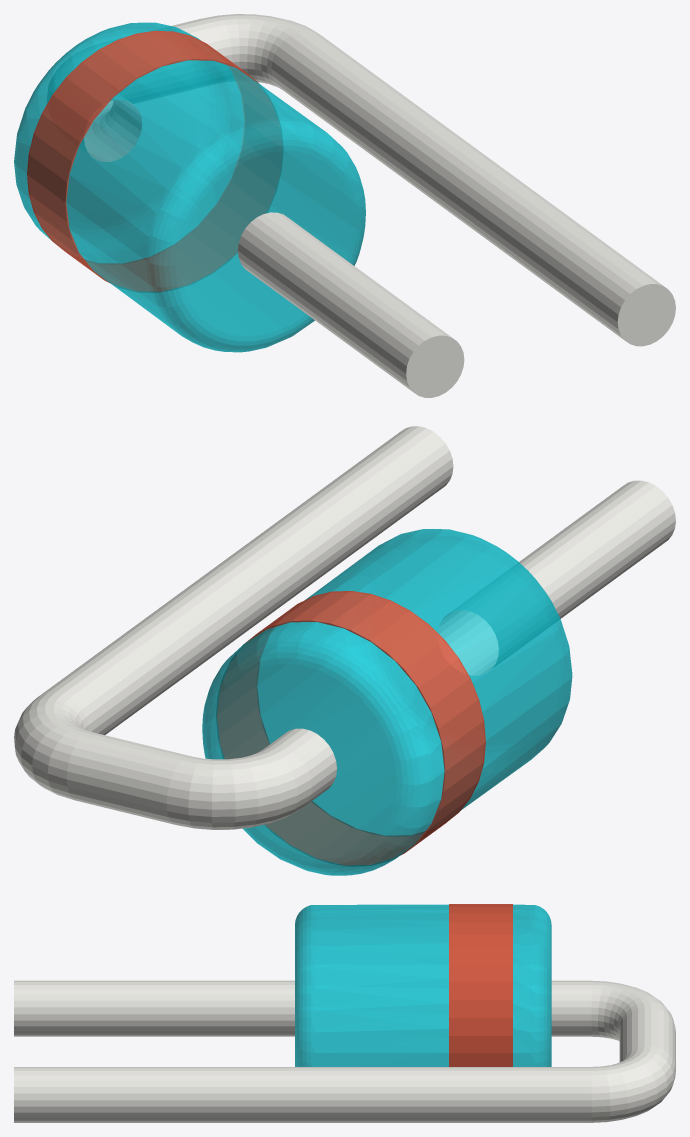
File: D_T-1_P2.54mm_Vertical_KathodeUp.glb
The picture shows the model from 3 angles, top to bottom: view 1: azimuth 30°, elevation 25°; view 2: azimuth 150°, elevation 25°; view 3: azimuth 270°, elevation 25°; orthographic projection. The views are drawn at different scales.
Parts seen in each view (by area): view 1: Shape_IndexedFaceSet.012, Shape_IndexedFaceSet, Shape_IndexedFaceSet.010, Shape_IndexedFaceSet.014, Shape_IndexedFaceSet.013, Shape_IndexedFaceSet.015, Shape_IndexedFaceSet.006, Shape_IndexedFaceSet.007, Shape_IndexedFaceSet.008, Shape_IndexedFaceSet.002, Shape_IndexedFaceSet.003, Shape_IndexedFaceSet.001 (+4 smaller); view 2: Shape_IndexedFaceSet.012, Shape_IndexedFaceSet, Shape_IndexedFaceSet.010, Shape_IndexedFaceSet.006, Shape_IndexedFaceSet.015, Shape_IndexedFaceSet.014, Shape_IndexedFaceSet.007, Shape_IndexedFaceSet.013, Shape_IndexedFaceSet.004, Shape_IndexedFaceSet.003, Shape_IndexedFaceSet.008, Shape_IndexedFaceSet.002 (+2 smaller); view 3: Shape_IndexedFaceSet, Shape_IndexedFaceSet.012, Shape_IndexedFaceSet.015, Shape_IndexedFaceSet.010, Shape_IndexedFaceSet.002, Shape_IndexedFaceSet.007, Shape_IndexedFaceSet.013, Shape_IndexedFaceSet.008, Shape_IndexedFaceSet.004, Shape_IndexedFaceSet.005, Shape_IndexedFaceSet.003.
Boxes of the visible parts, left/top/right/bottom form: Shape_IndexedFaceSet.012: left=66, top=60, right=362, bottom=349; Shape_IndexedFaceSet: left=271, top=30, right=662, bottom=339; Shape_IndexedFaceSet.010: left=27, top=30, right=282, bottom=291; Shape_IndexedFaceSet.014: left=180, top=150, right=352, bottom=336; Shape_IndexedFaceSet.013: left=146, top=118, right=365, bottom=352; Shape_IndexedFaceSet.015: left=237, top=212, right=451, bottom=391; Shape_IndexedFaceSet.006: left=27, top=40, right=198, bottom=223; Shape_IndexedFaceSet.007: left=14, top=22, right=233, bottom=255; Shape_IndexedFaceSet.008: left=17, top=24, right=243, bottom=263; Shape_IndexedFaceSet.002: left=203, top=14, right=315, bottom=88; Shape_IndexedFaceSet.003: left=109, top=18, right=224, bottom=103; Shape_IndexedFaceSet.001: left=617, top=284, right=675, bottom=346; Shape_IndexedFaceSet.012: left=257, top=530, right=568, bottom=835; Shape_IndexedFaceSet: left=40, top=426, right=453, bottom=734; Shape_IndexedFaceSet.010: left=217, top=591, right=485, bottom=864; Shape_IndexedFaceSet.006: left=216, top=663, right=397, bottom=858; Shape_IndexedFaceSet.015: left=438, top=480, right=675, bottom=675; Shape_IndexedFaceSet.014: left=381, top=545, right=558, bottom=739; Shape_IndexedFaceSet.007: left=202, top=630, right=433, bottom=875; Shape_IndexedFaceSet.013: left=342, top=529, right=572, bottom=773; Shape_IndexedFaceSet.004: left=166, top=747, right=311, bottom=829; Shape_IndexedFaceSet.003: left=67, top=732, right=190, bottom=824; Shape_IndexedFaceSet.008: left=206, top=622, right=444, bottom=873; Shape_IndexedFaceSet.002: left=14, top=693, right=92, bottom=799; Shape_IndexedFaceSet: left=14, top=1067, right=591, bottom=1122; Shape_IndexedFaceSet.012: left=315, top=904, right=448, bottom=1066; Shape_IndexedFaceSet.015: left=14, top=980, right=294, bottom=1036; Shape_IndexedFaceSet.010: left=449, top=904, right=512, bottom=1066; Shape_IndexedFaceSet.002: left=591, top=1046, right=675, bottom=1122; Shape_IndexedFaceSet.007: left=530, top=905, right=551, bottom=1066; Shape_IndexedFaceSet.013: left=295, top=905, right=315, bottom=1066; Shape_IndexedFaceSet.008: left=513, top=904, right=530, bottom=1066; Shape_IndexedFaceSet.004: left=591, top=980, right=674, bottom=1041; Shape_IndexedFaceSet.005: left=551, top=980, right=591, bottom=1036; Shape_IndexedFaceSet.003: left=619, top=1007, right=675, bottom=1069.
Bounding box in the file's own units: 1.65 × 1.03 × 3.25.
